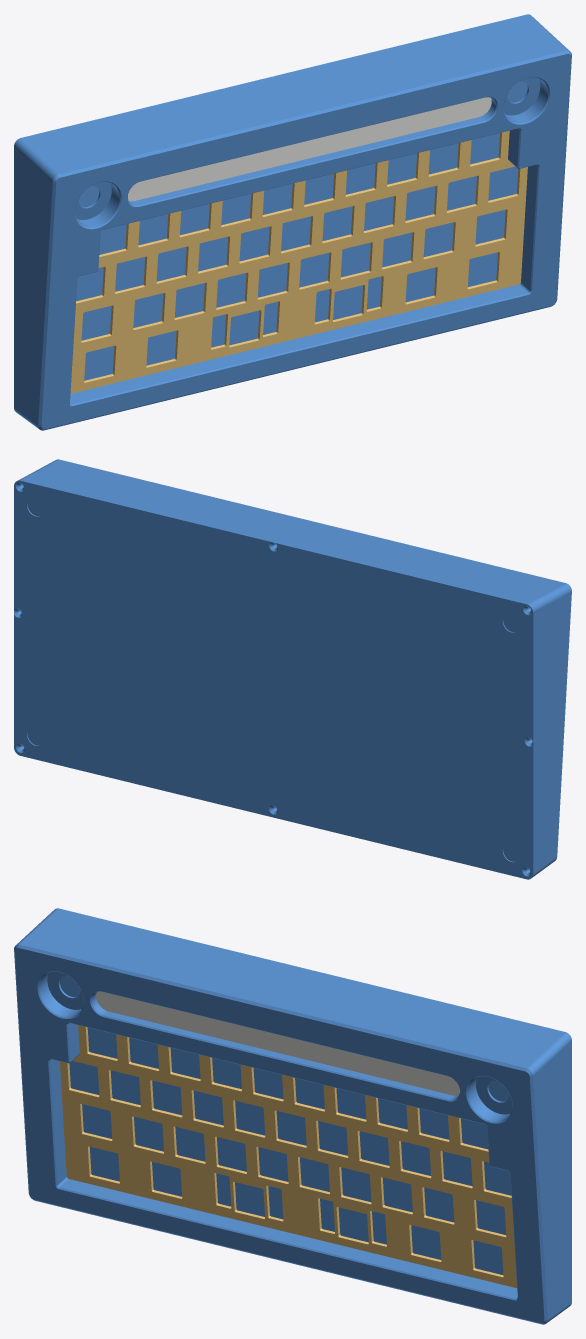
The model's file is Karina - Aluminum.fbx.
3 renders of one model, top to bottom at view 1: azimuth 30°, elevation 25°; view 2: azimuth 150°, elevation 25°; view 3: azimuth 330°, elevation 25°, orthographic.
Visible parts, largest first — view 1: Body1 (×4); view 2: Body1 (×2); view 3: Body1 (×4).
Part boxes in pixels (x1,y1,x2,y2): Body1 (×4): [14, 14, 571, 430]; Body1 (×2): [14, 459, 571, 879]; Body1 (×4): [14, 908, 571, 1324].
Size of the model in its own units: 239 by 121 by 32.07.
